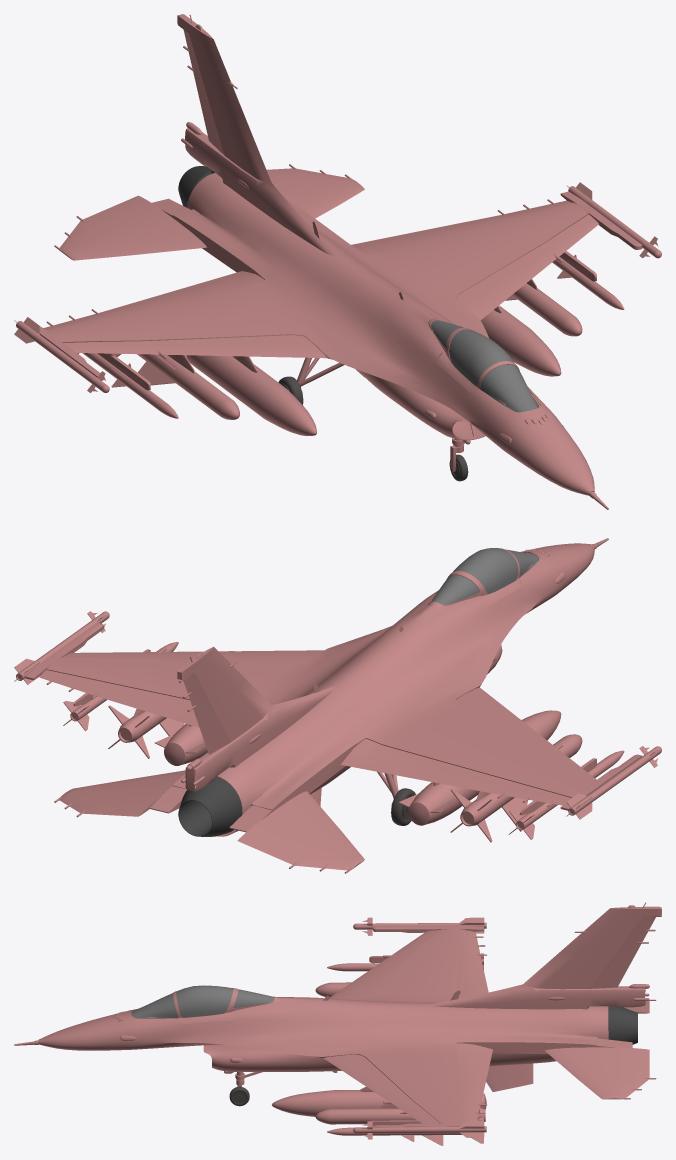
Rendered from jet.obj.
The picture shows the model from 3 angles, top to bottom: view 1: azimuth 30°, elevation 25°; view 2: azimuth 150°, elevation 25°; view 3: azimuth 270°, elevation 25°; orthographic projection. The views are drawn at different scales.
Visible parts, largest first — view 1: Fuselage, VStab, HStabR, TankR, HStabL, TankL, Slat2R, ASM_2R, Slat2L, GlassMiddle, FlapR, GlassFront (+12 smaller); view 2: Fuselage, VStab, HStabR, FlapR, HStabL, Nozzle, TankR, ASM_2R, FlapL, Slat2R, GlassMiddle, Rudder (+17 smaller); view 3: Fuselage, VStab, HStabL, TankL, FlapL, Rudder, GlassMiddle, ASM_2L, Slat2L, AAM_3L, Fins, FlapR (+12 smaller).
Part boxes in pixels (x1,y1,x2,y2): Fuselage: (47,173,594,495); VStab: (177,14,335,256); HStabR: (54,195,206,260); TankR: (186,355,316,435); HStabL: (266,164,364,218); TankL: (480,305,561,376); Slat2R: (185,335,327,358); ASM_2R: (114,353,239,419); Slat2L: (456,258,545,320); GlassMiddle: (449,329,514,385); FlapR: (98,271,263,316); GlassFront: (480,364,538,412); Fuselage: (46,543,594,836); VStab: (177,646,335,791); HStabR: (237,791,364,873); FlapR: (340,738,512,794); HStabL: (54,770,185,817); Nozzle: (178,776,242,836); TankR: (398,710,561,825); ASM_2R: (450,734,582,842); FlapL: (98,683,199,727); Slat2R: (456,687,545,741); GlassMiddle: (453,548,517,594); Rudder: (179,673,230,754); Fuselage: (38,929,608,1123); VStab: (427,902,661,1009); HStabL: (545,1047,656,1099); TankL: (272,1090,486,1116); FlapL: (456,1043,492,1104); Rudder: (589,915,661,988); GlassMiddle: (176,985,233,1017); ASM_2L: (315,1107,485,1145); Slat2L: (323,1054,398,1095); AAM_3L: (353,1121,486,1139); Fins: (486,1063,533,1091); FlapR: (458,952,488,998).
Bounding box in the file's own units: 11.54 × 5.22 × 15.09.
